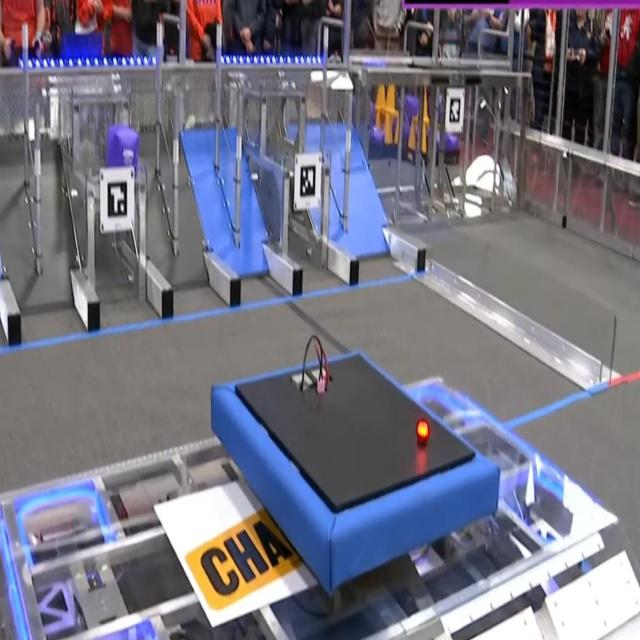frc_cone: (381, 86, 395, 115), (419, 81, 429, 118), (407, 122, 417, 155), (382, 114, 392, 146), (374, 87, 386, 113), (394, 113, 401, 142), (420, 118, 426, 150)
frc_cube: (106, 126, 136, 172), (440, 130, 458, 154), (367, 127, 386, 147), (404, 95, 419, 117)
